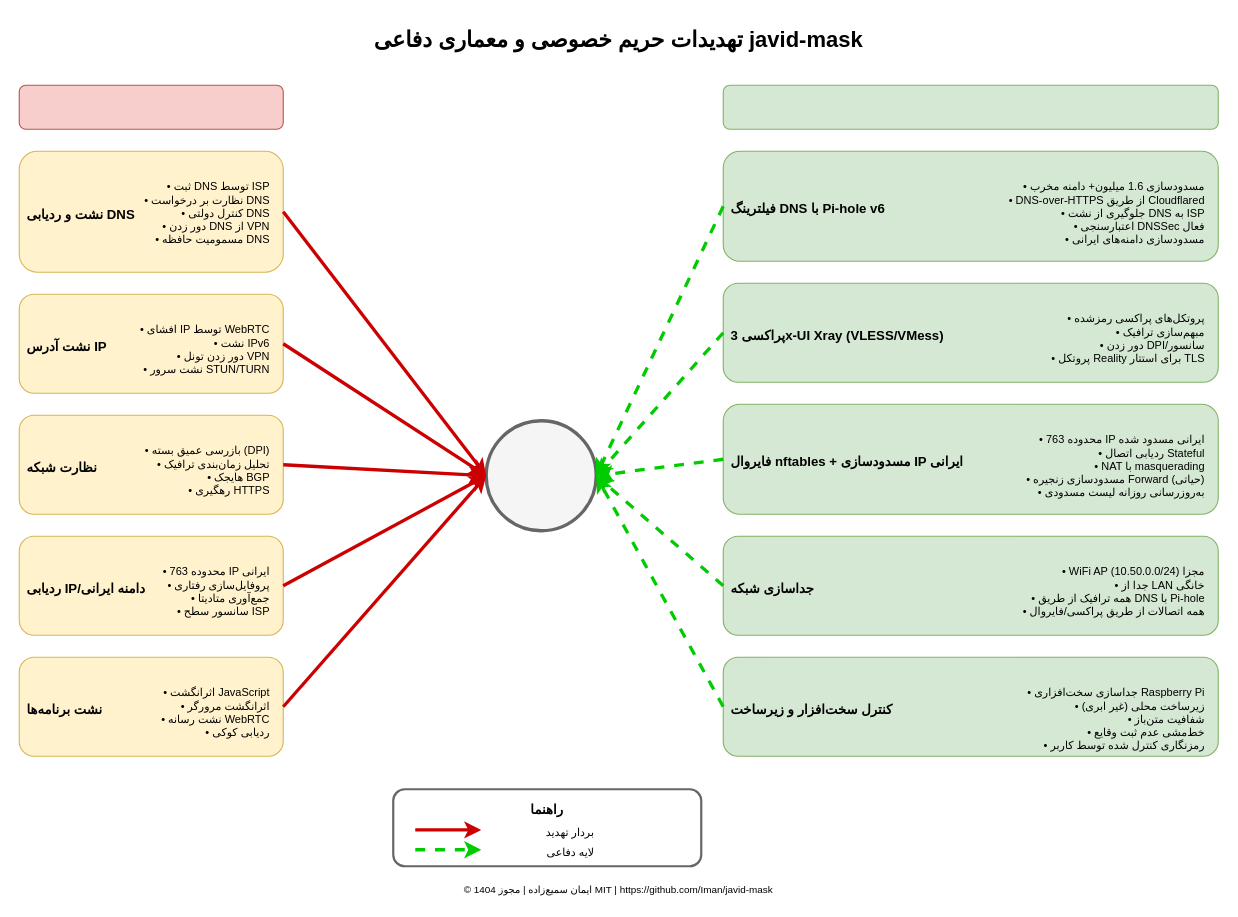
This 1238x917 diagram has some shape labels left out. Each missing label, with the centre of its shape:
"تهدیدات حریم خصوصی" belongs at [150,106].
"لایه‌های دفاعی javid-mask" belongs at [970,106].
"کاربر در معرض خطر" belongs at [540,475].
